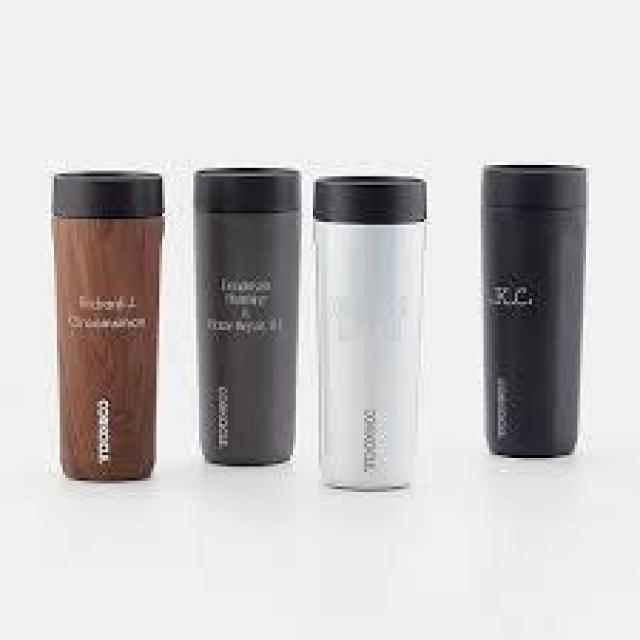bottle: (480, 61, 588, 462), (312, 176, 428, 492), (51, 168, 165, 483), (190, 166, 302, 468)
